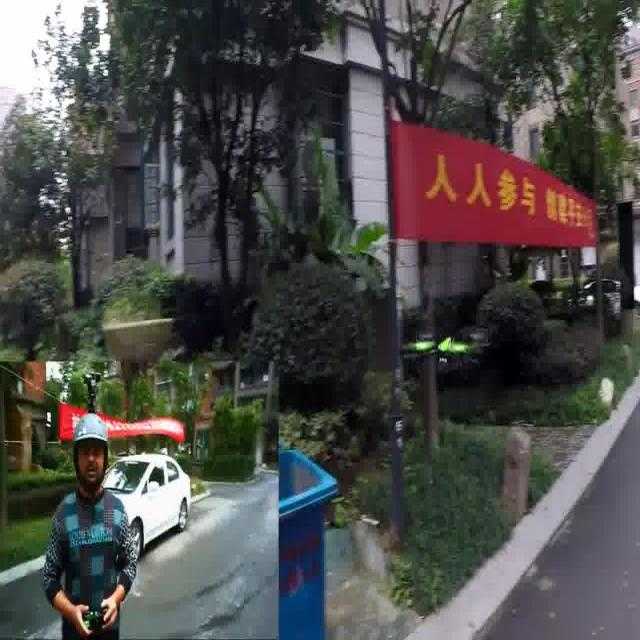drones: (394, 323, 500, 375)
